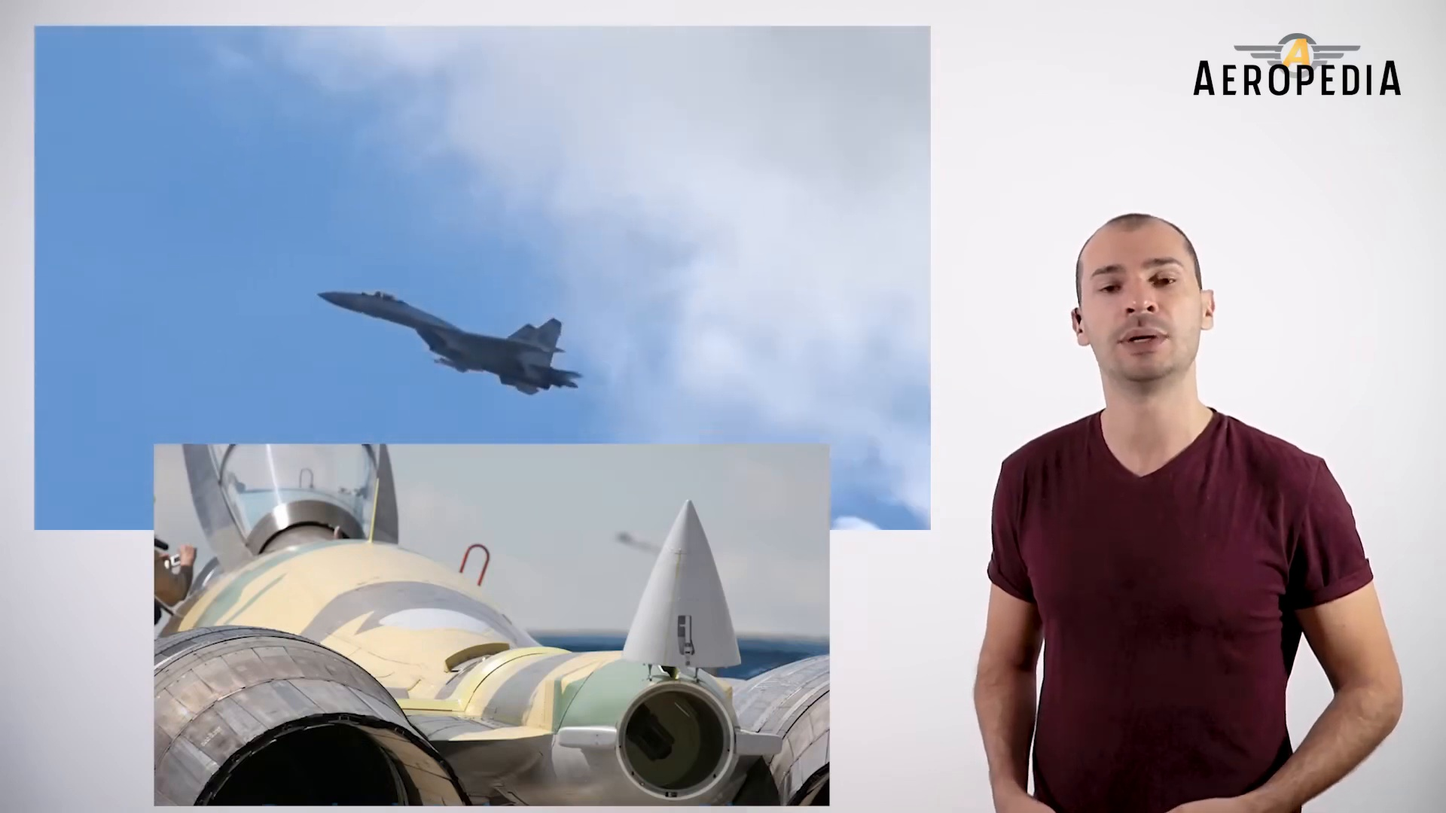Su35: (318, 287, 585, 395)
